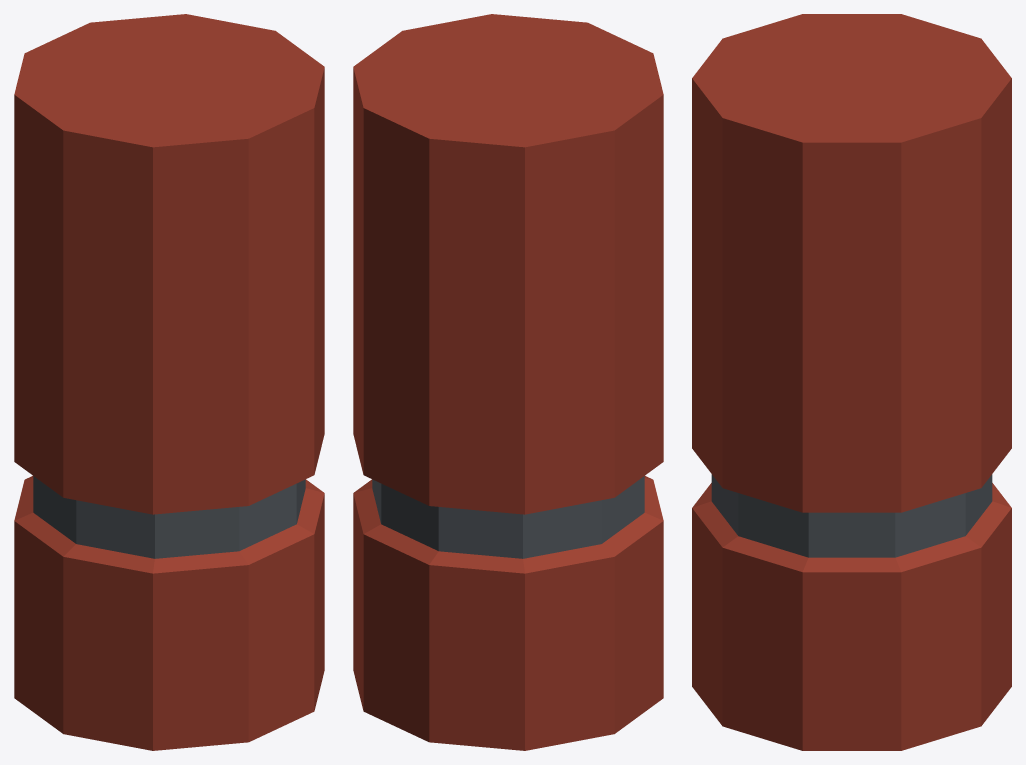
File: Dropship_01_Piping_02_Red.fbx
3 views of the same model, side by side, from view 1: azimuth 30°, elevation 25°; view 2: azimuth 150°, elevation 25°; view 3: azimuth 270°, elevation 25° (orthographic).
Parts seen in each view (by area): view 1: Dropship_01_Piping_02_Red; view 2: Dropship_01_Piping_02_Red; view 3: Dropship_01_Piping_02_Red.
Boxes of the visible parts, box(x1,y1,x2,y2) form: Dropship_01_Piping_02_Red: box(14, 14, 324, 750); Dropship_01_Piping_02_Red: box(353, 14, 663, 750); Dropship_01_Piping_02_Red: box(692, 14, 1011, 750).
Bounding box in the file's own units: 52.29 × 115 × 54.98.
1 material, 1 textured.
